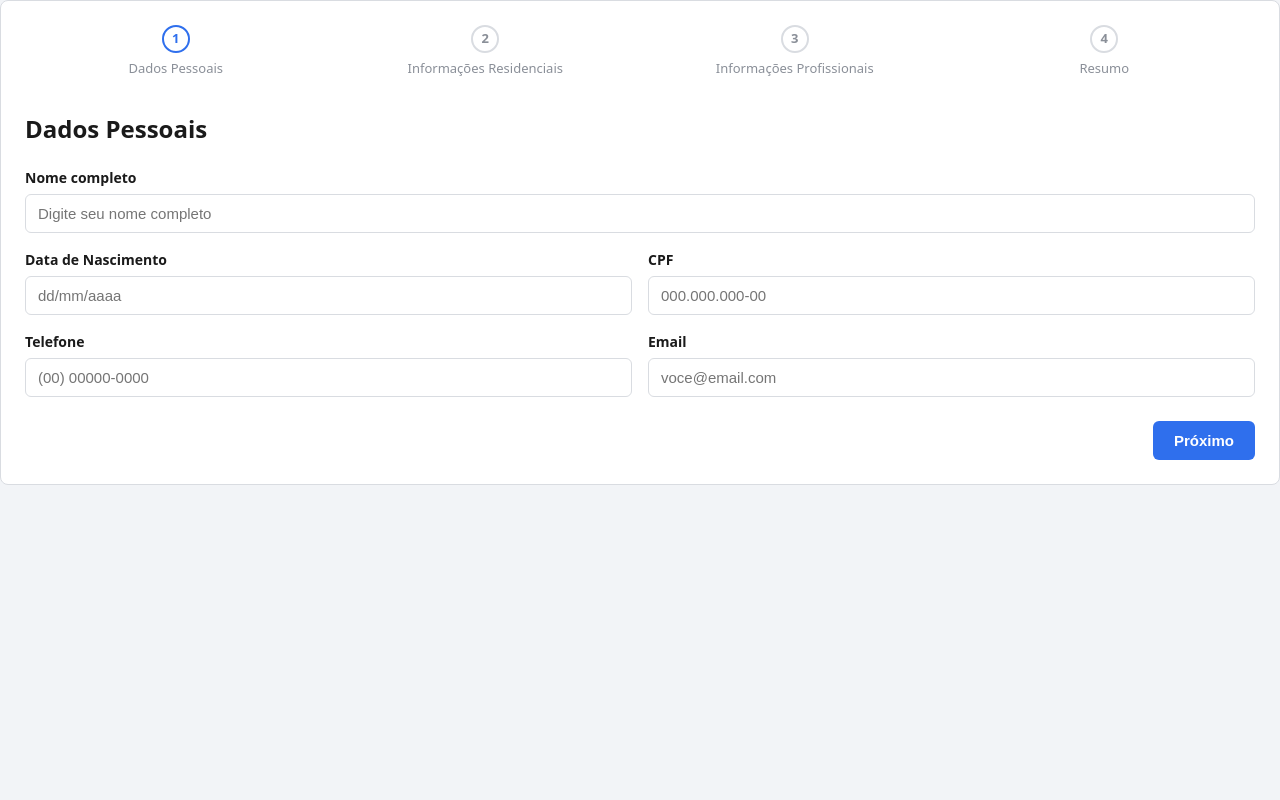
FormWizard › permite voltar para a etapa anterior mantendo os dados preenchidos
Step 1. Type "Maria da Silva" into the field labelled "Nome completo" → (640, 213), box [25,194,1255,232]
Step 2. Type "10031992" into the field labelled "Data de Nascimento" → (328, 295), box [25,276,632,314]
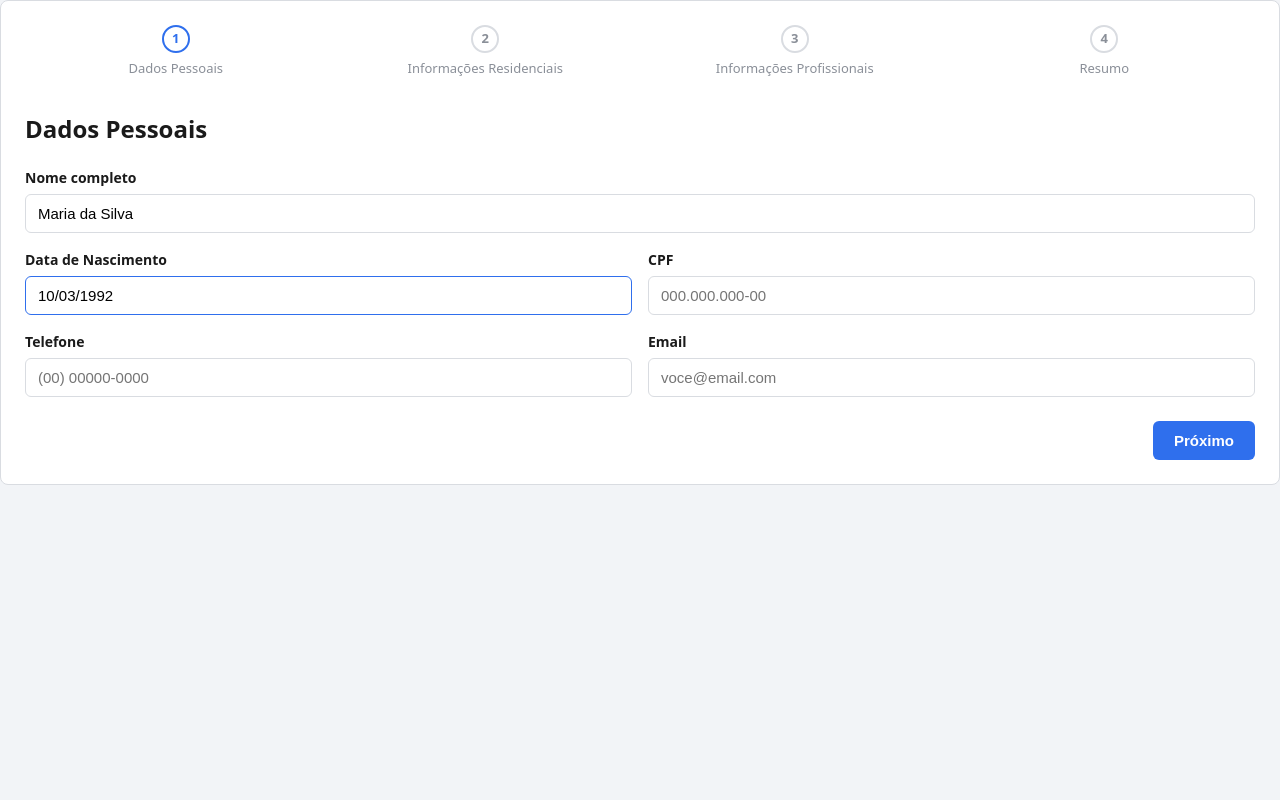
Step 3. Type "11144477735" into the field labelled "CPF" → (952, 295), box [648,276,1255,314]
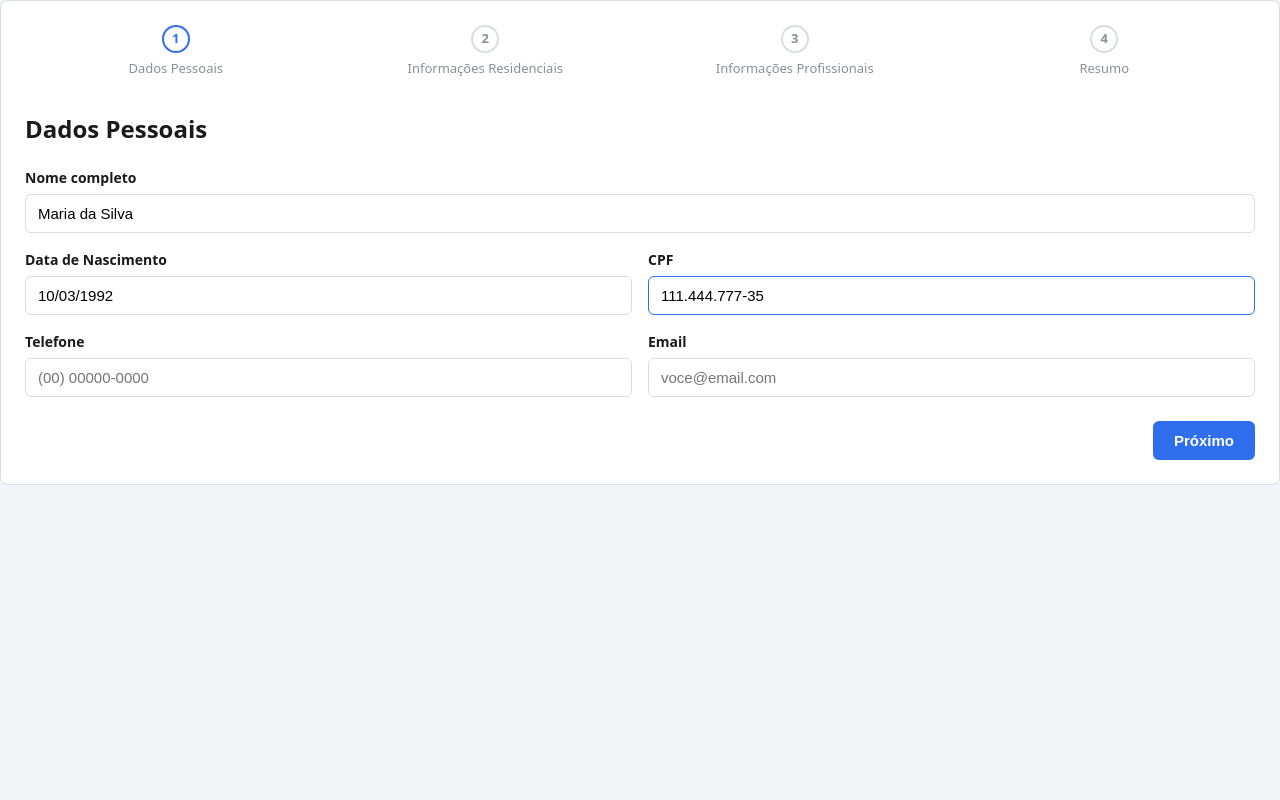
Step 4. Type "11912345678" into the field labelled "Telefone" → (328, 377), box [25,358,632,396]
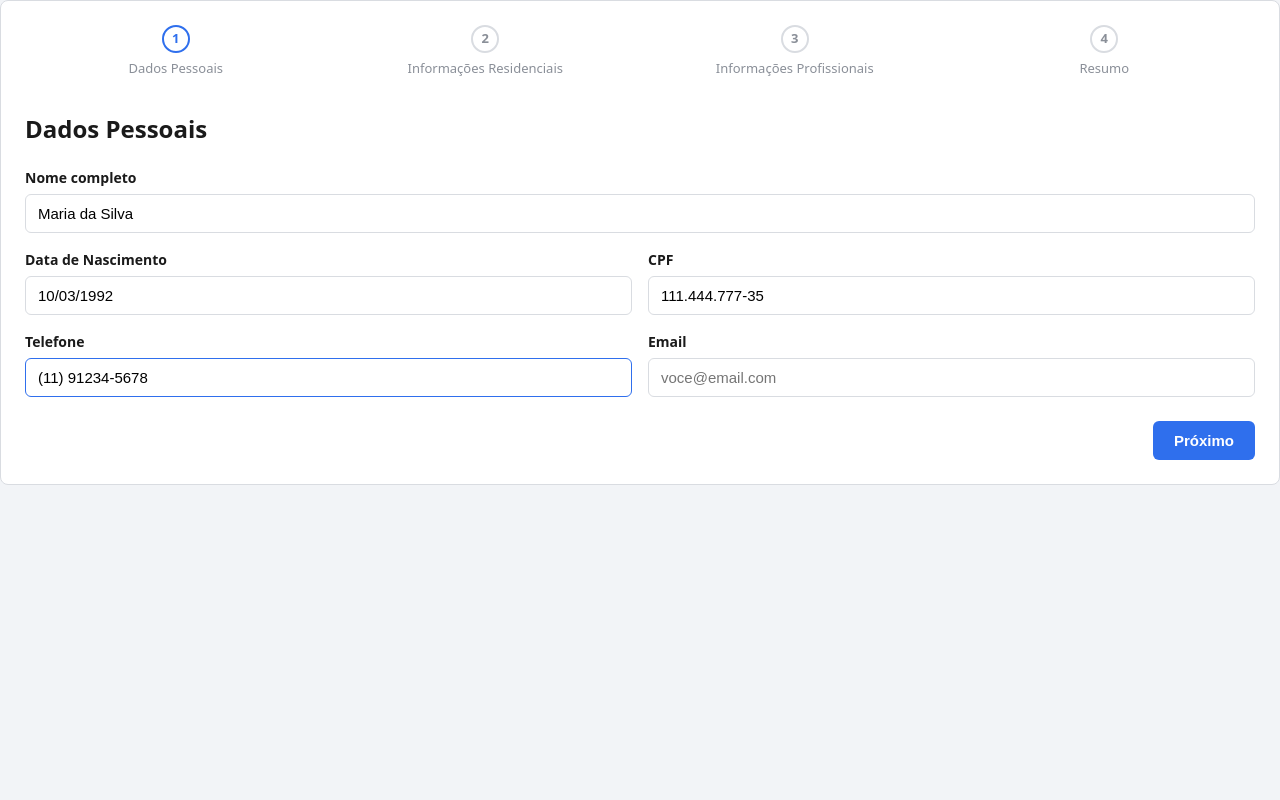
Step 5. Type "maria@email.com" into the field labelled "Email" → (952, 377), box [648,358,1255,396]
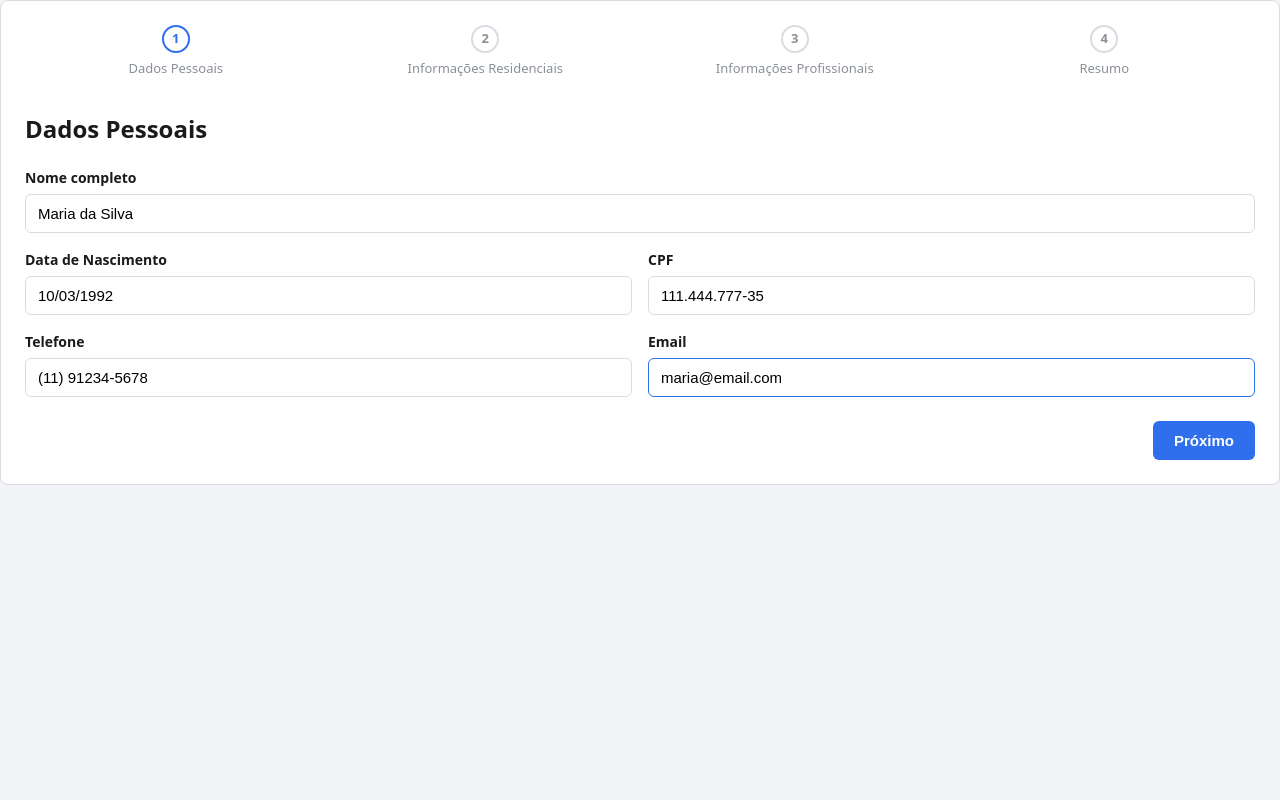
Step 6. Click the button "Próximo" → (1204, 440), box [1153,420,1255,460]
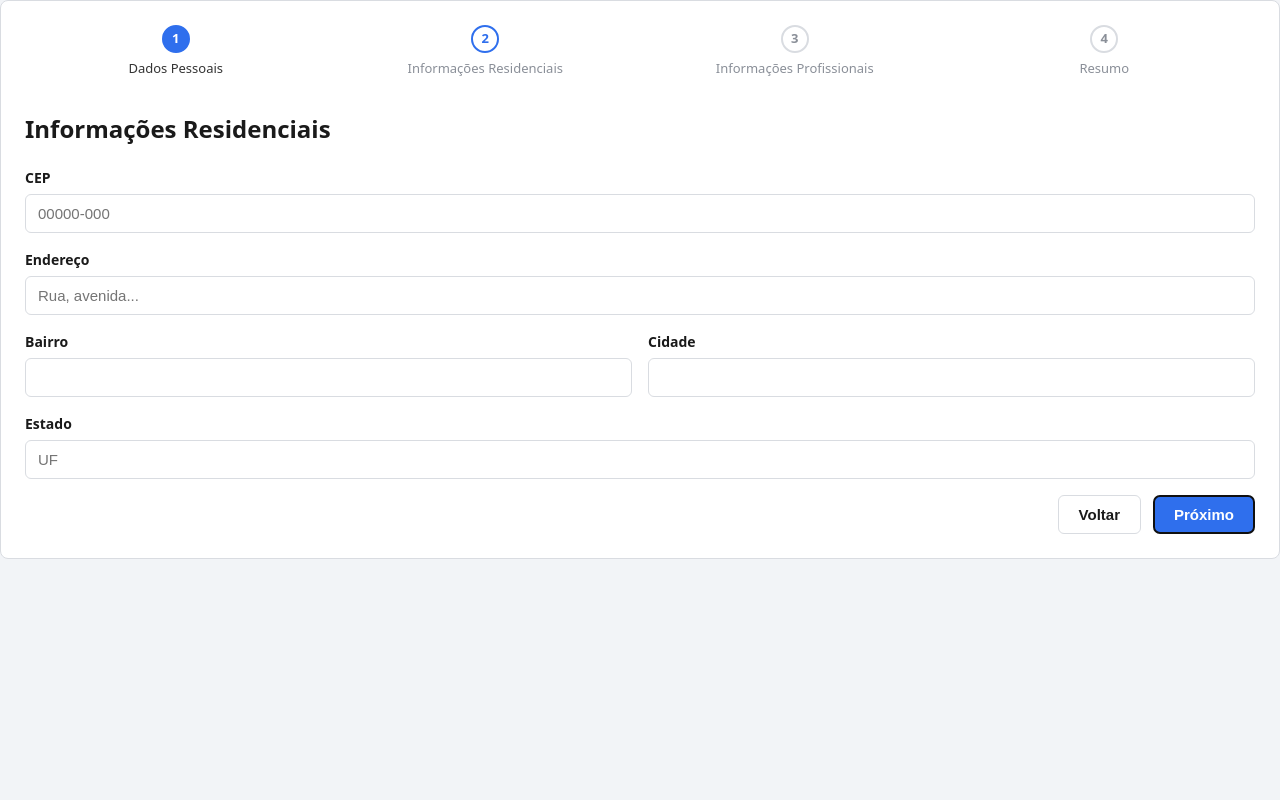
Now the heading "Informações Residenciais" is shown, box [25,112,331,144]
Step 7. Click the button "Voltar" → (1099, 514), box [1058,494,1141,534]
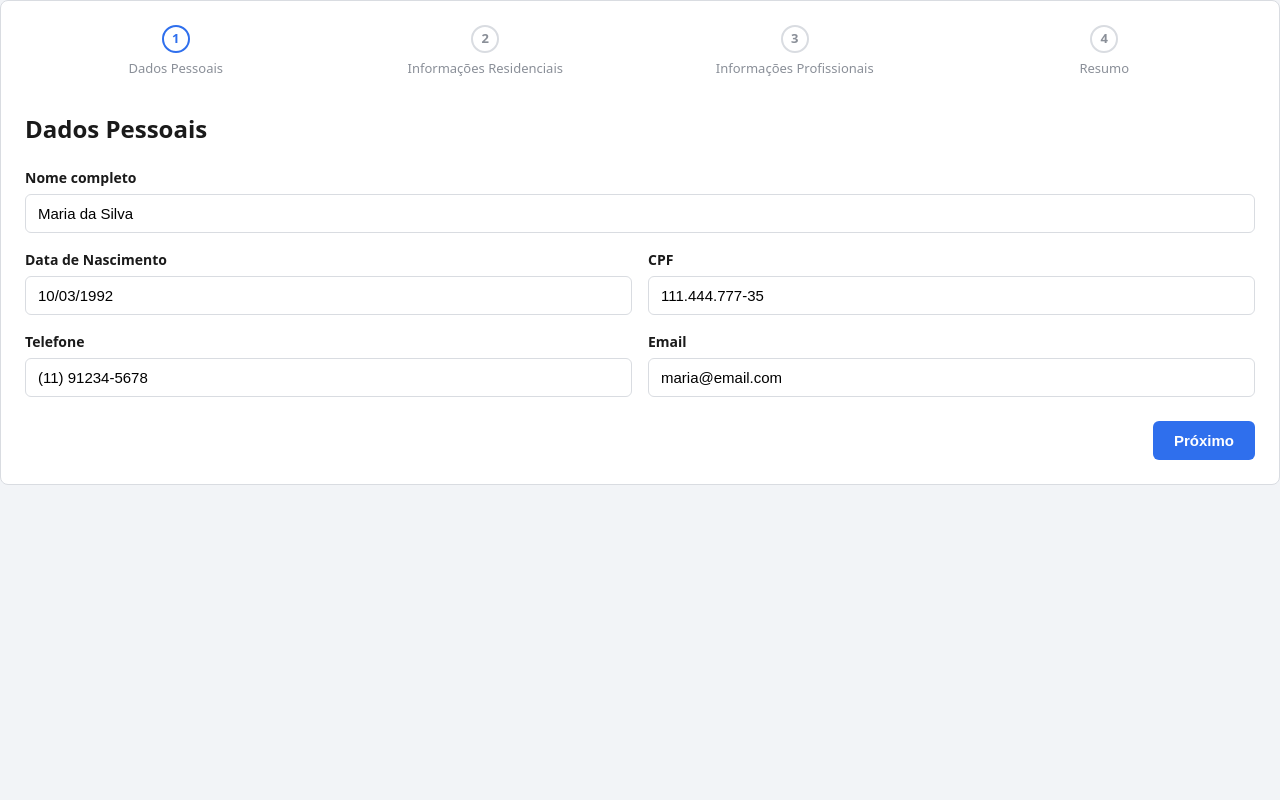
Now the field showing "Maria da Silva" is shown, box [25,194,1255,232]
